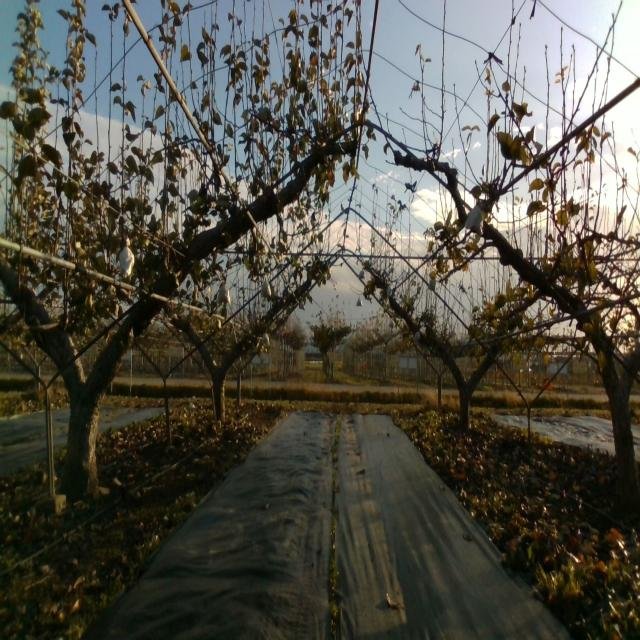pearbags: (116, 236, 134, 278), (464, 204, 484, 235), (216, 282, 232, 306), (261, 274, 272, 298)
